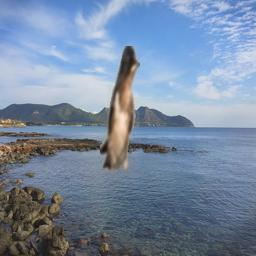Swallow: (100, 46, 140, 172)
